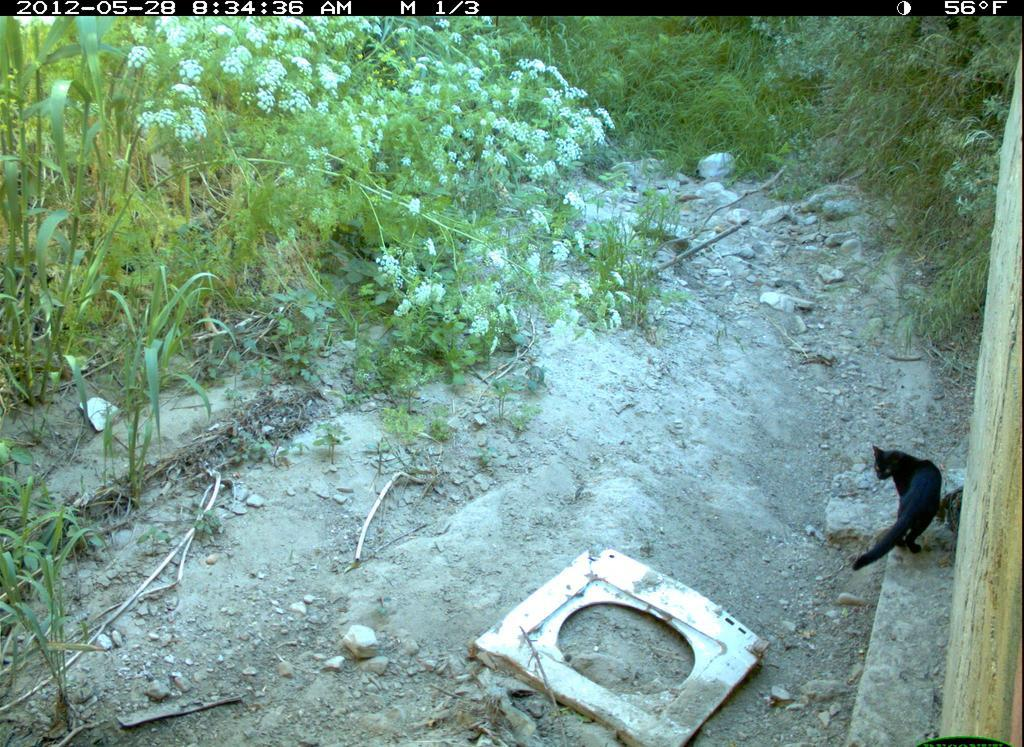opossum: (850, 442, 948, 578)
